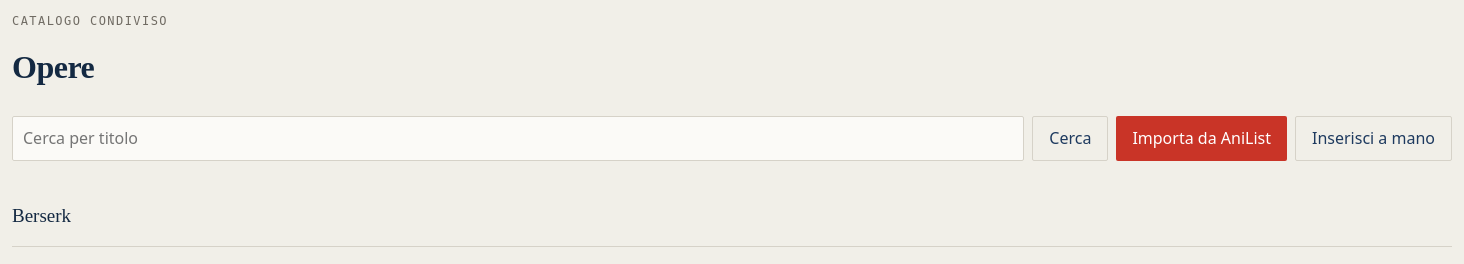
Test: Library › searches on the server and replaces the previous result set
The width and height of the screenshot is (1464, 264).
Expected: the text "Berserk" is shown, x1=12 y1=201 x2=71 y2=230
In the field named "Cerca nel catalogo": [518, 138] box x1=12 y1=116 x2=1024 y2=161, type "  Vagabond  "
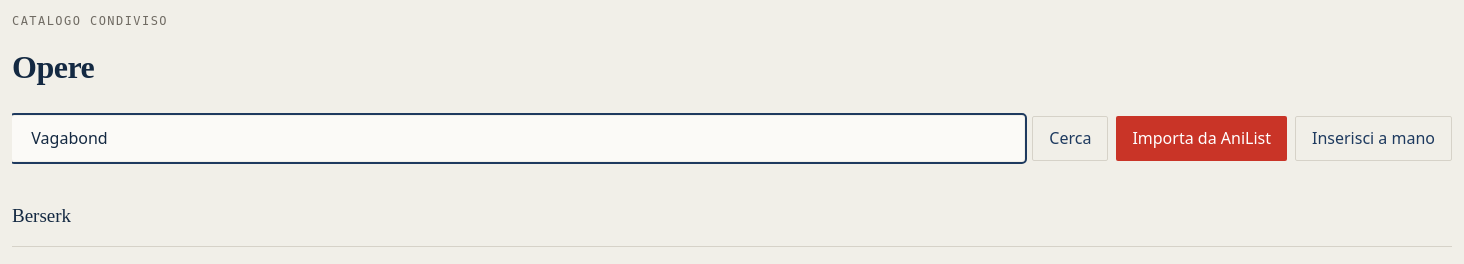
Click the button "Cerca": [1070, 138] box x1=1032 y1=116 x2=1108 y2=161
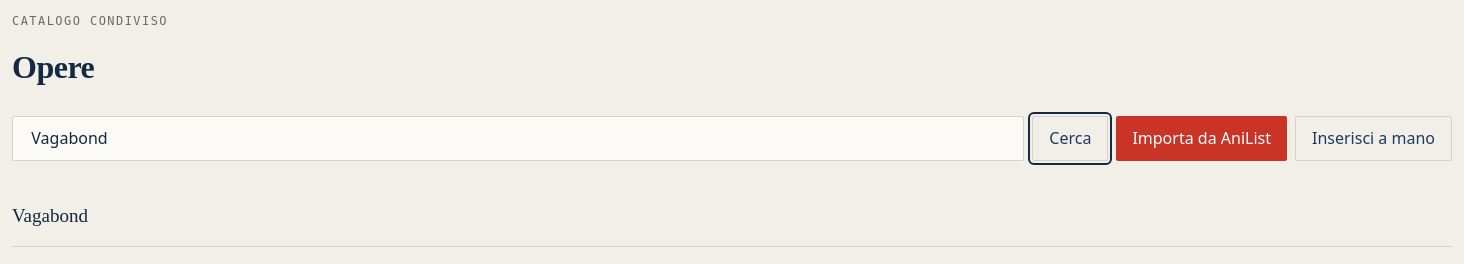
Expected: the text "Vagabond" is shown, x1=12 y1=201 x2=88 y2=230
Expected: the link "Berserk" is gone
